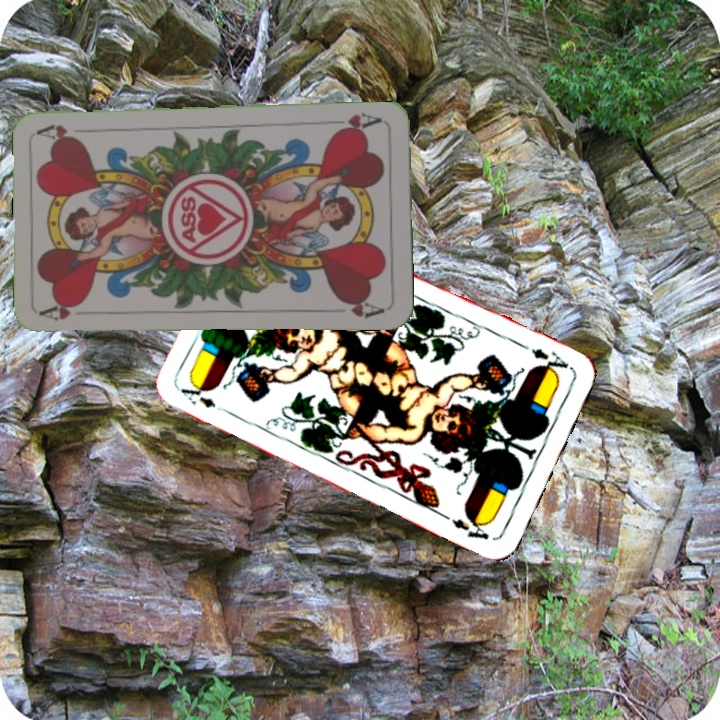EA: (176, 383, 232, 417), (527, 344, 573, 378)
HA: (327, 109, 384, 136), (38, 296, 87, 323)
